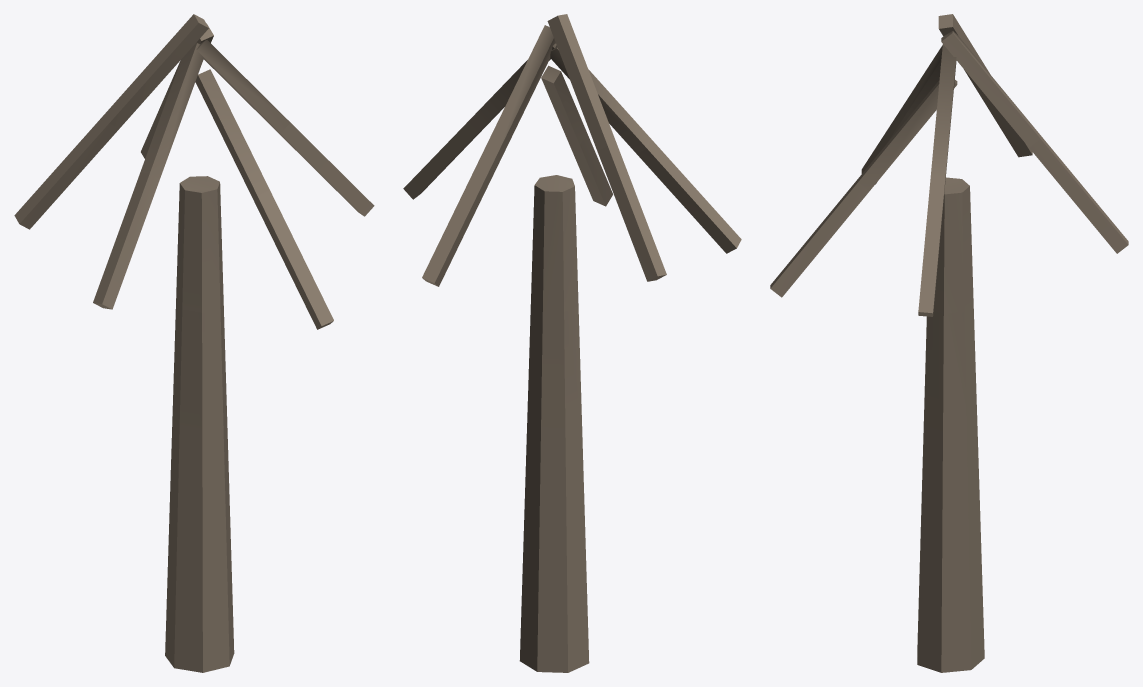
The model's file is arvore_3.glb.
3 views of the same model, side by side, from view 1: azimuth 30°, elevation 25°; view 2: azimuth 150°, elevation 25°; view 3: azimuth 270°, elevation 25° (orthographic).
Parts seen in each view (by area): view 1: tronco, galhos; view 2: tronco, galhos; view 3: tronco, galhos.
Boxes of the visible parts, box(x1,y1,x2,y2) form: tronco: box(165, 176, 234, 672); galhos: box(14, 14, 374, 329); tronco: box(519, 175, 589, 672); galhos: box(403, 14, 741, 286); tronco: box(917, 177, 984, 672); galhos: box(770, 14, 1128, 316).
Size of what is drawn, in the model's own units: 2.38 by 4.79 by 2.42.
